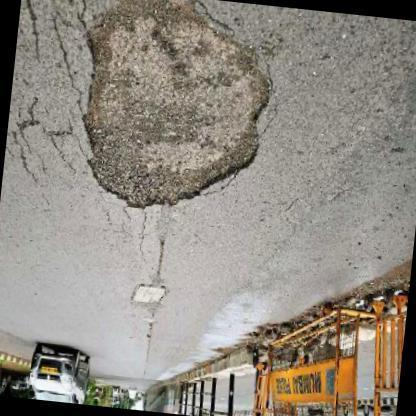pothole: (82, 0, 276, 209)
